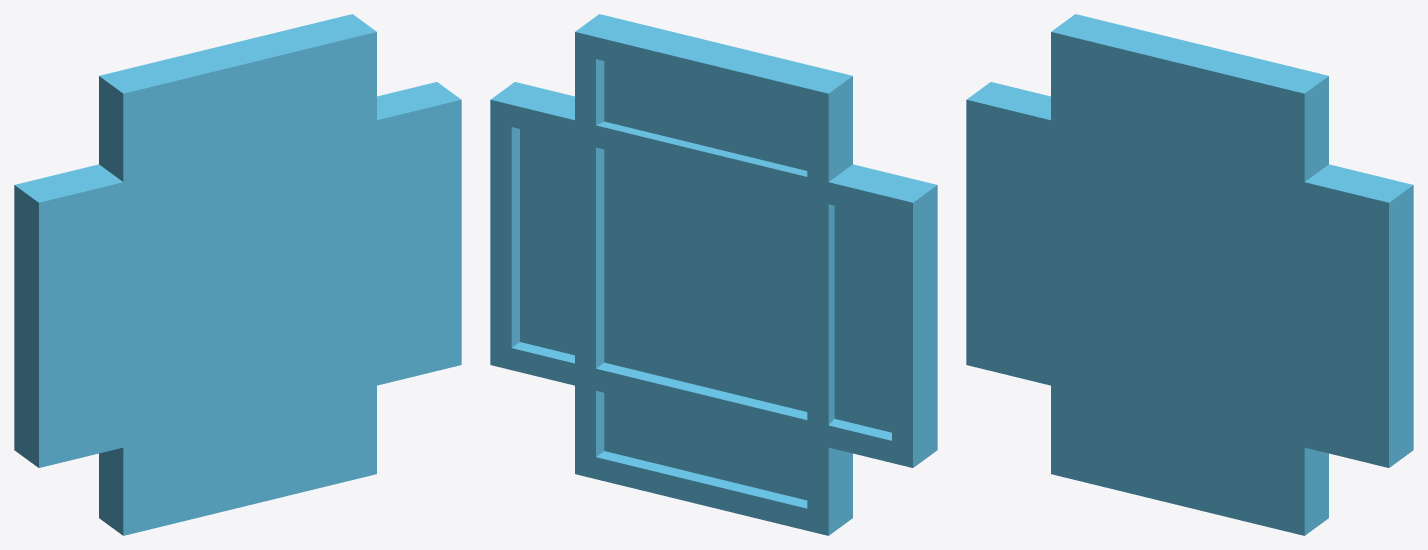
The model's file is postersGroup.FBX.
3 renders of one model, left to right at view 1: azimuth 30°, elevation 25°; view 2: azimuth 150°, elevation 25°; view 3: azimuth 330°, elevation 25°, orthographic.
Visible parts, largest first — view 1: posterFrameD, posterFrameA; view 2: posterFrameA, posterFrameD; view 3: posterFrameD, posterFrameA.
Part boxes in pixels (x1=…): posterFrameD: x1=14, y1=82, x2=461, y2=467; posterFrameA: x1=99, y1=14, x2=376, y2=535; posterFrameA: x1=575, y1=14, x2=852, y2=535; posterFrameD: x1=490, y1=82, x2=937, y2=467; posterFrameD: x1=966, y1=82, x2=1413, y2=467; posterFrameA: x1=1051, y1=14, x2=1328, y2=535.
Bounding box in the file's own units: 20 × 20 × 2.
